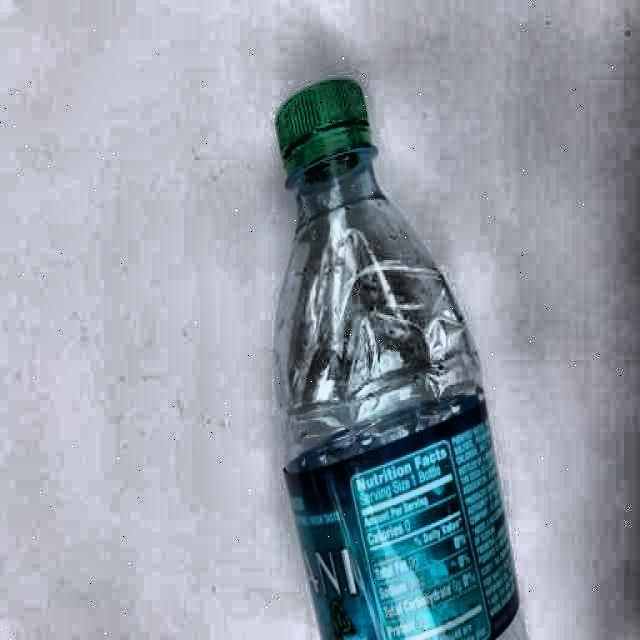plastic: (272, 78, 520, 640)
